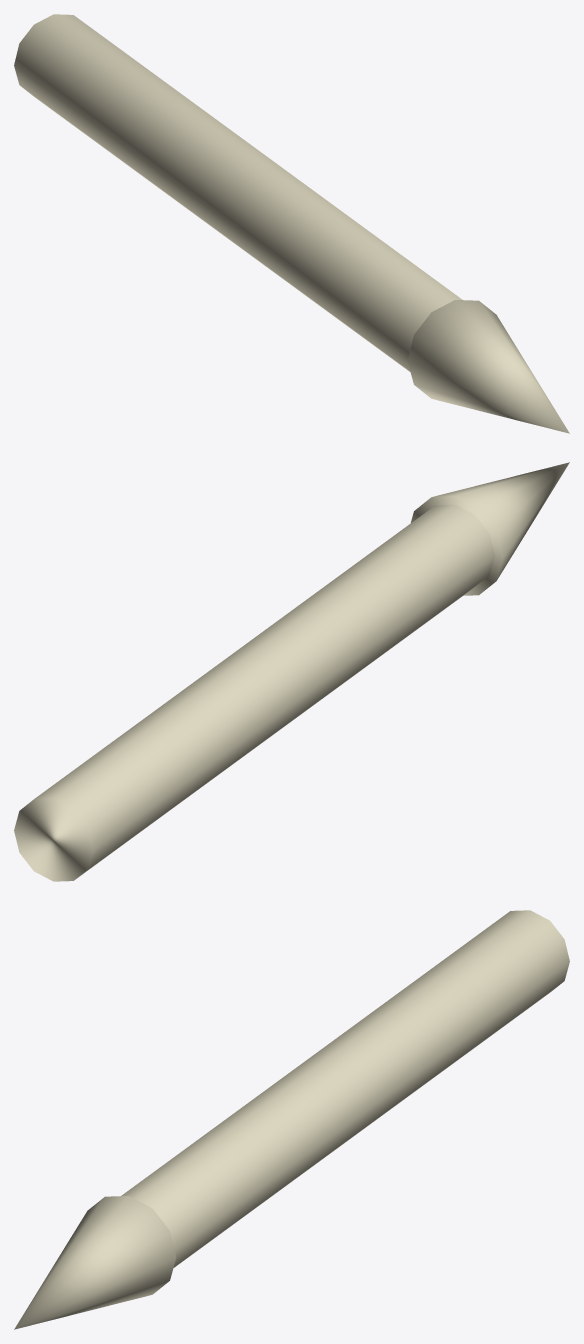
The model's file is fx.tracer-bolt.glb.
The picture shows the model from 3 angles, top to bottom: view 1: azimuth 30°, elevation 25°; view 2: azimuth 150°, elevation 25°; view 3: azimuth 330°, elevation 25°; orthographic projection.
Visible parts, largest first — view 1: core, tip; view 2: core, tip; view 3: core, tip.
Part boxes in pixels (x1,y1,x2,y2): core: (14, 14, 462, 371); tip: (407, 300, 569, 433); core: (14, 504, 494, 881); tip: (411, 462, 569, 595); core: (121, 910, 569, 1267); tip: (14, 1196, 176, 1329).
Bounding box in the file's own units: 0.12 × 0.12 × 1.12.
